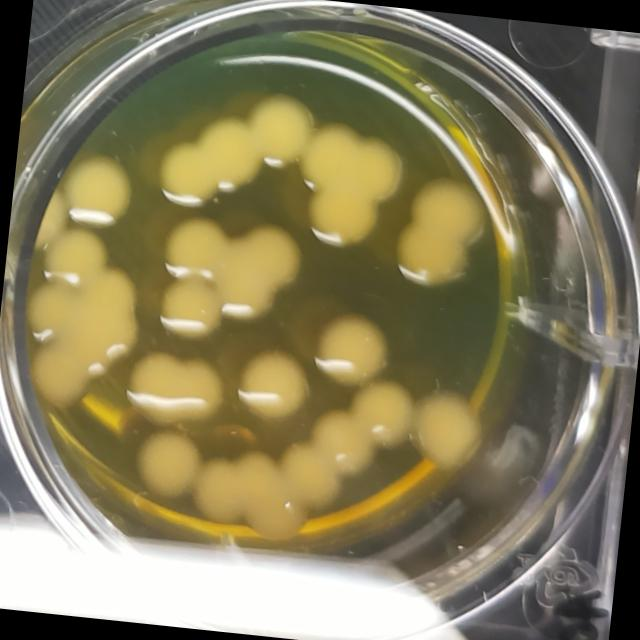vibrio: (13, 218, 148, 416), (294, 119, 405, 252), (388, 166, 492, 292), (195, 442, 316, 544), (154, 106, 267, 212), (218, 214, 304, 329), (117, 346, 225, 428), (232, 342, 314, 426), (243, 86, 318, 175), (310, 307, 390, 390), (410, 387, 490, 470), (54, 147, 137, 225), (126, 422, 203, 499), (346, 372, 422, 450), (156, 210, 230, 284), (274, 433, 346, 508), (307, 400, 378, 476), (150, 276, 222, 346)
